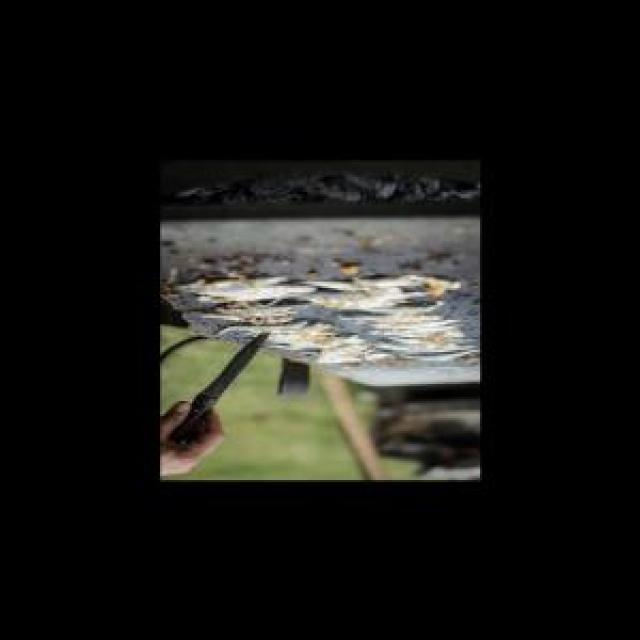knife: (168, 326, 280, 452)
